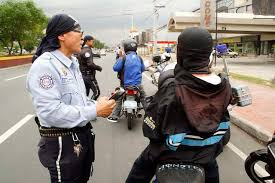helmet: (119, 37, 142, 57)
